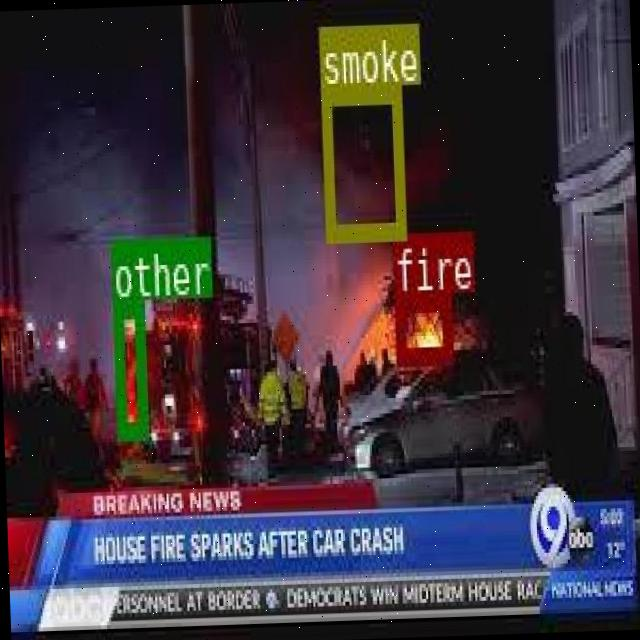fire: (394, 292, 452, 362)
smoke: (319, 83, 403, 239)
